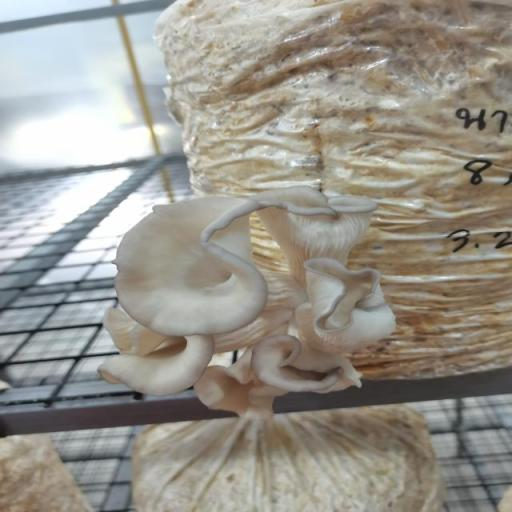White Oyster Mushroom: (91, 178, 390, 415)
